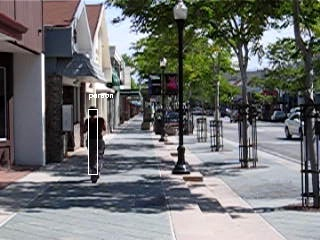person: (85, 105, 106, 184), (84, 105, 105, 184), (86, 105, 107, 184), (85, 104, 106, 183), (85, 106, 106, 185)
target_negative: (19, 18, 243, 64), (174, 173, 310, 219), (36, 151, 248, 173), (15, 59, 95, 72), (282, 172, 292, 184)
